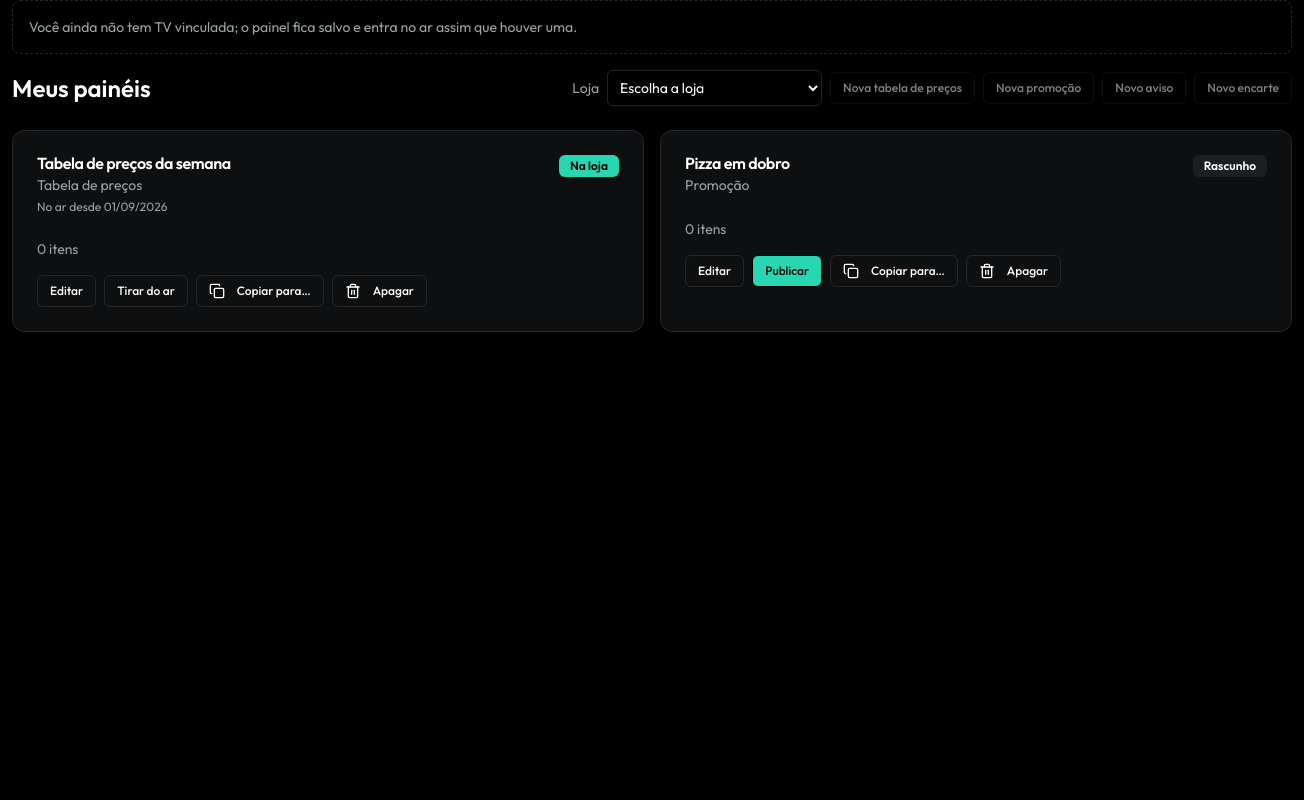
Test: PortalPanels › publicar com 422 mostra a mensagem da API e mantém "Publicar"
Click the button "Publicar" at (787, 271), box 752,255 -> 822,287
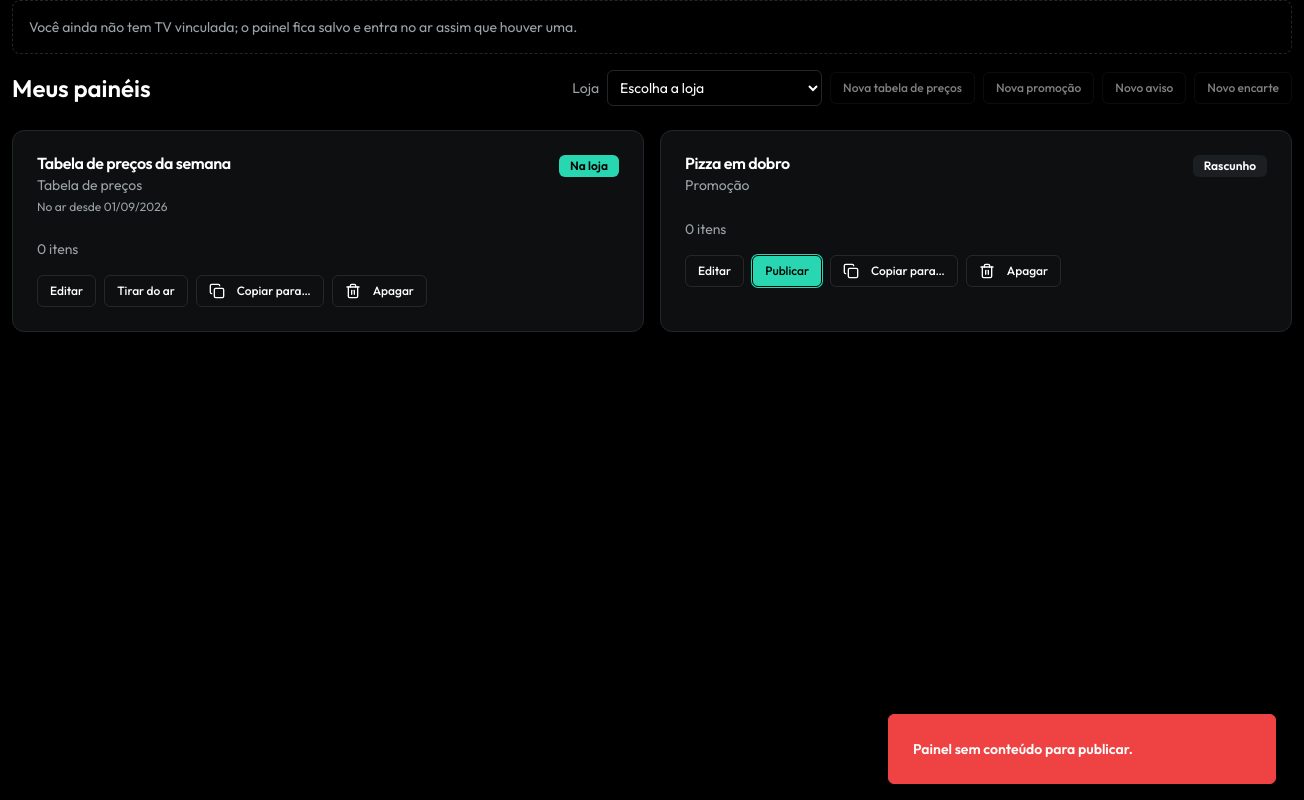
expect the text "Painel sem conteúdo para publicar." is shown: met, box 913,739 -> 1133,759
